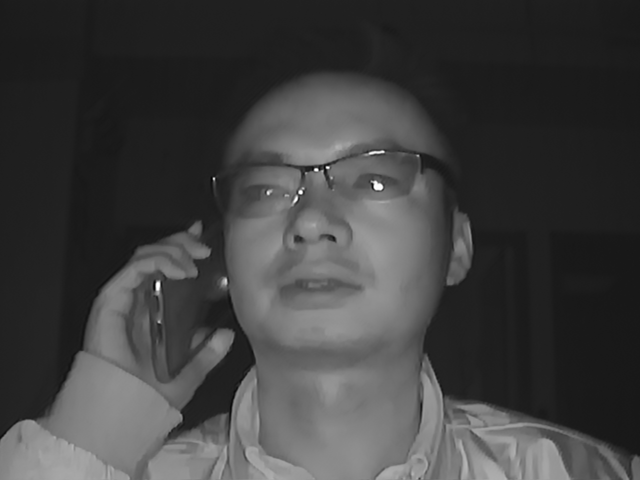hand: (81, 220, 227, 396)
